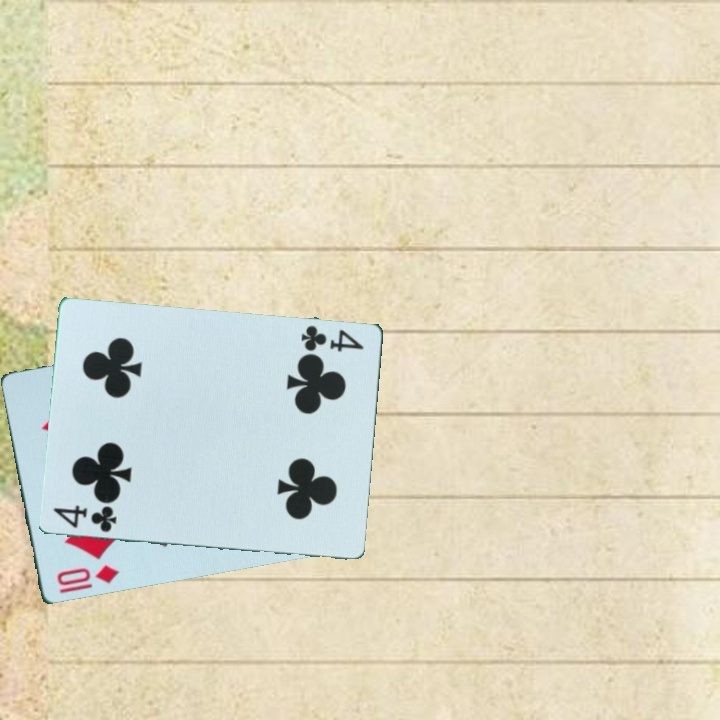10d: (53, 562, 122, 597)
4c: (298, 321, 367, 355), (51, 501, 120, 535)
